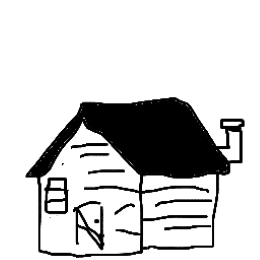bottom_placed_house: (1, 0, 260, 260)
chimney: (211, 111, 253, 169)
closed_window: (42, 173, 71, 218)
door: (72, 196, 104, 252)
shaded_roof: (15, 83, 234, 181)
wall: (34, 121, 145, 259)
